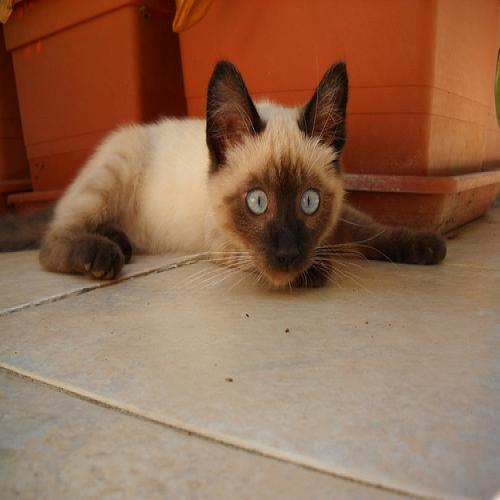siamese: (184, 44, 377, 306)
